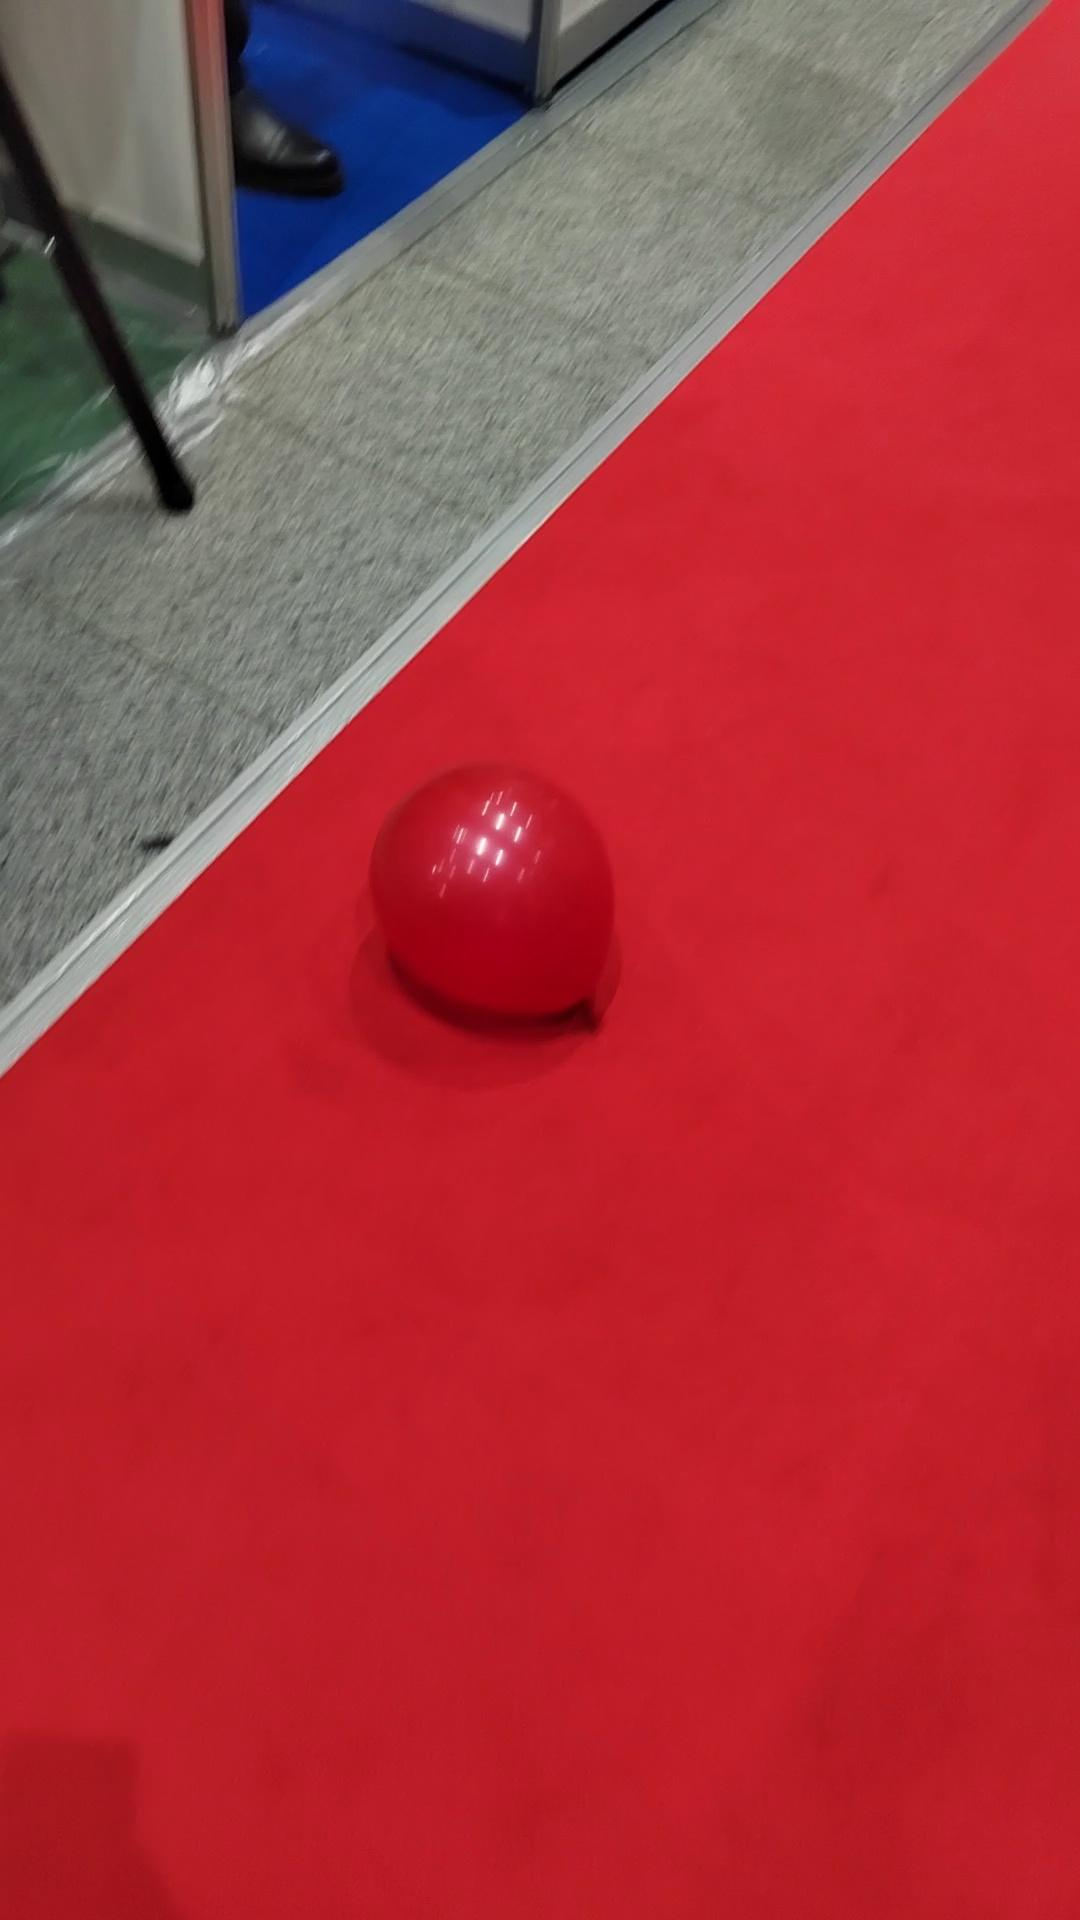red: (369, 762, 617, 1021)
